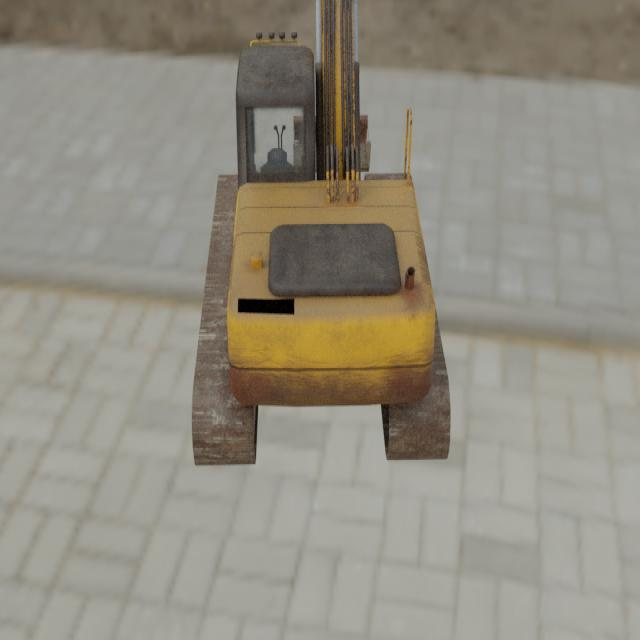excavator: (191, 0, 451, 467)
